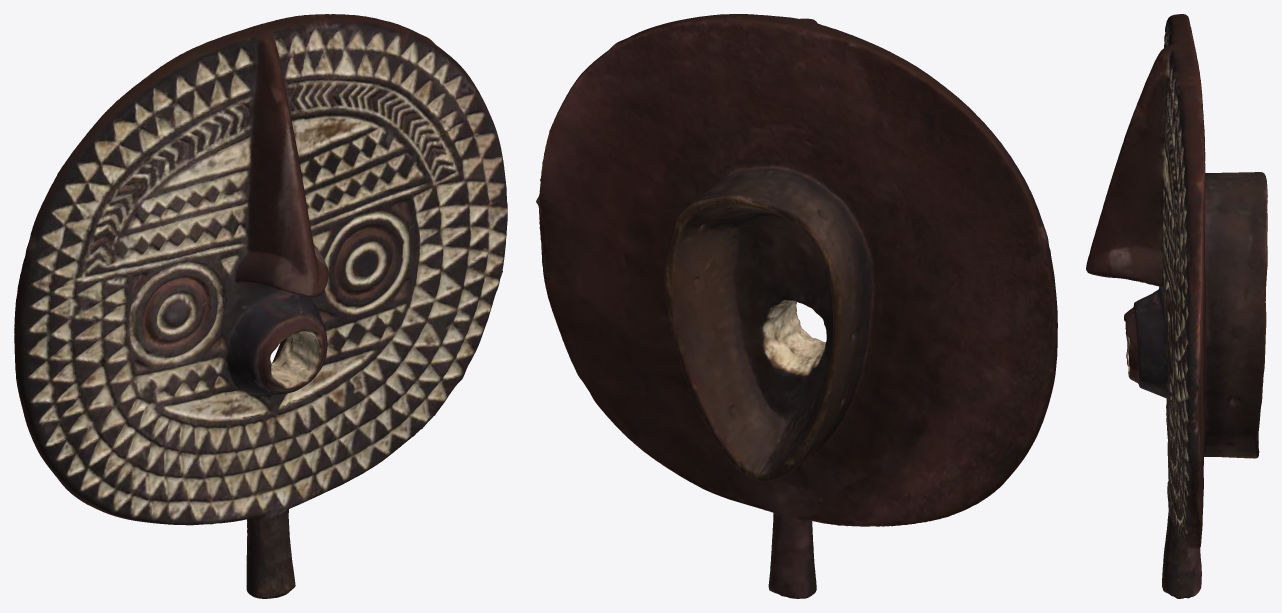
File: preview.glb
The picture shows the model from 3 angles, left to right: view 1: azimuth 30°, elevation 25°; view 2: azimuth 150°, elevation 25°; view 3: azimuth 270°, elevation 25°; orthographic projection. The views are drawn at different scales.
Visible parts, largest first — view 1: Object_2; view 2: Object_2; view 3: Object_2.
Boxes of the visible parts, <box> form: Object_2: <box>14,14,507,598</box>; Object_2: <box>536,14,1057,598</box>; Object_2: <box>1086,14,1267,598</box>.
Size of the model in its own units: 430 by 463 by 141.
1 material, 1 textured.
